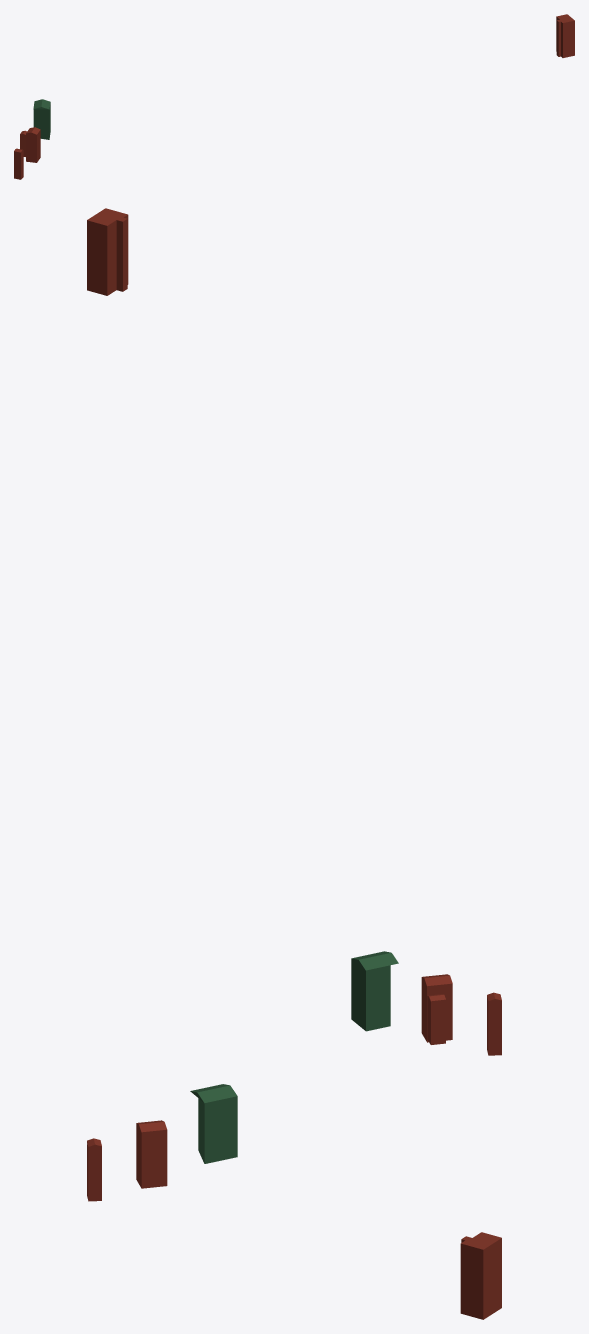
The model's file is near-15-27357-14878.8b9c09c7.glb.
The picture shows the model from 3 angles, top to bottom: view 1: azimuth 30°, elevation 25°; view 2: azimuth 150°, elevation 25°; view 3: azimuth 330°, elevation 25°; orthographic projection. The views are drawn at different scales.
Bounding box in the file's own units: 236 × 117 × 220.
